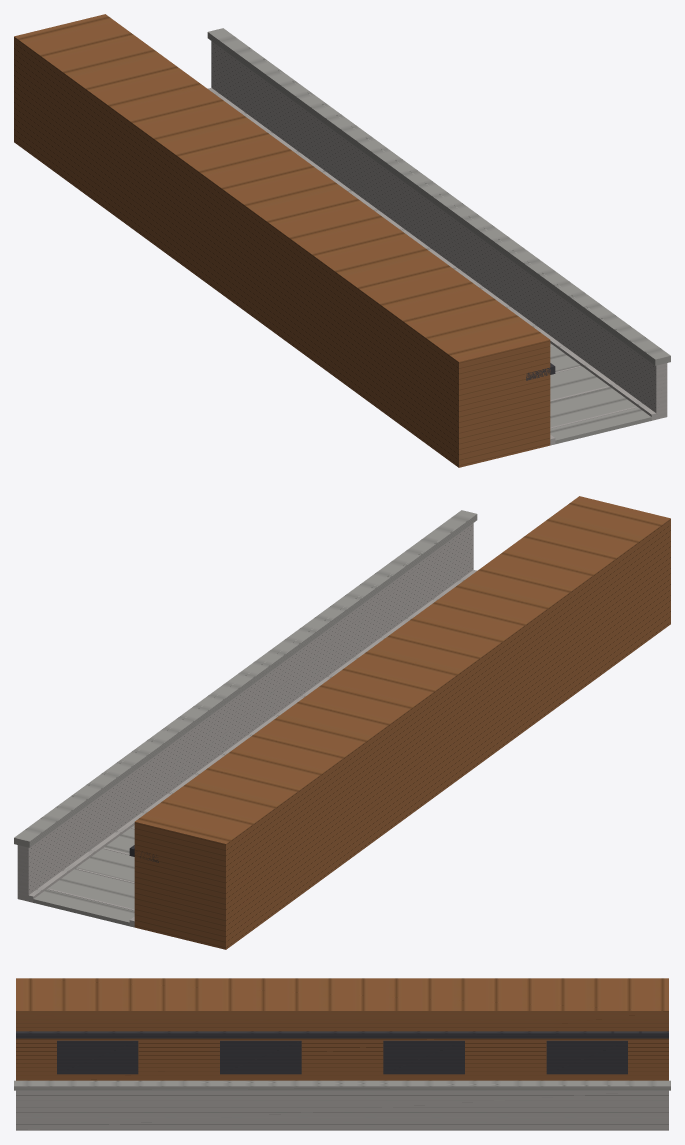
3 renders of one model, top to bottom at view 1: azimuth 30°, elevation 25°; view 2: azimuth 150°, elevation 25°; view 3: azimuth 270°, elevation 25°, orthographic. The views are drawn at different scales.
Parts seen in each view (by area): view 1: node_component_11110_02_03052_002_03_cafe_facades, node_component_11110_02_03052_002_02_sagoseok_walls, node_component_11110_02_03052_002_01_granite_road; view 2: node_component_11110_02_03052_002_03_cafe_facades, node_component_11110_02_03052_002_02_sagoseok_walls, node_component_11110_02_03052_002_01_granite_road; view 3: node_component_11110_02_03052_002_03_cafe_facades, node_component_11110_02_03052_002_02_sagoseok_walls.
Part boxes in pixels (<box>): node_component_11110_02_03052_002_03_cafe_facades: <box>14,14,555,467</box>; node_component_11110_02_03052_002_02_sagoseok_walls: <box>207,28,670,419</box>; node_component_11110_02_03052_002_01_granite_road: <box>208,88,656,445</box>; node_component_11110_02_03052_002_03_cafe_facades: <box>129,496,670,949</box>; node_component_11110_02_03052_002_02_sagoseok_walls: <box>14,510,477,901</box>; node_component_11110_02_03052_002_01_granite_road: <box>28,570,476,927</box>; node_component_11110_02_03052_002_03_cafe_facades: <box>16,978,668,1080</box>; node_component_11110_02_03052_002_02_sagoseok_walls: <box>14,1080,670,1130</box>.
Bounding box in the file's own units: 8.75 × 4.2 × 32.2.
Materials: 4 (4 with a texture image).
